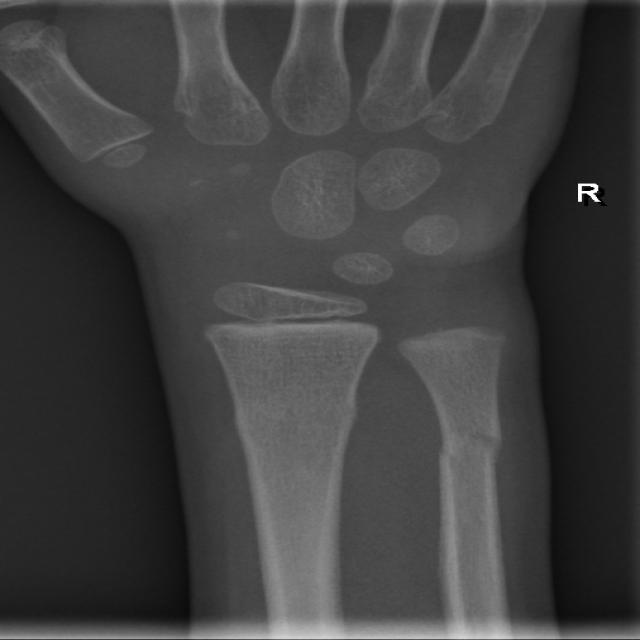radius fracture: (184, 368, 401, 534)
ulna fracture: (418, 384, 530, 547)
